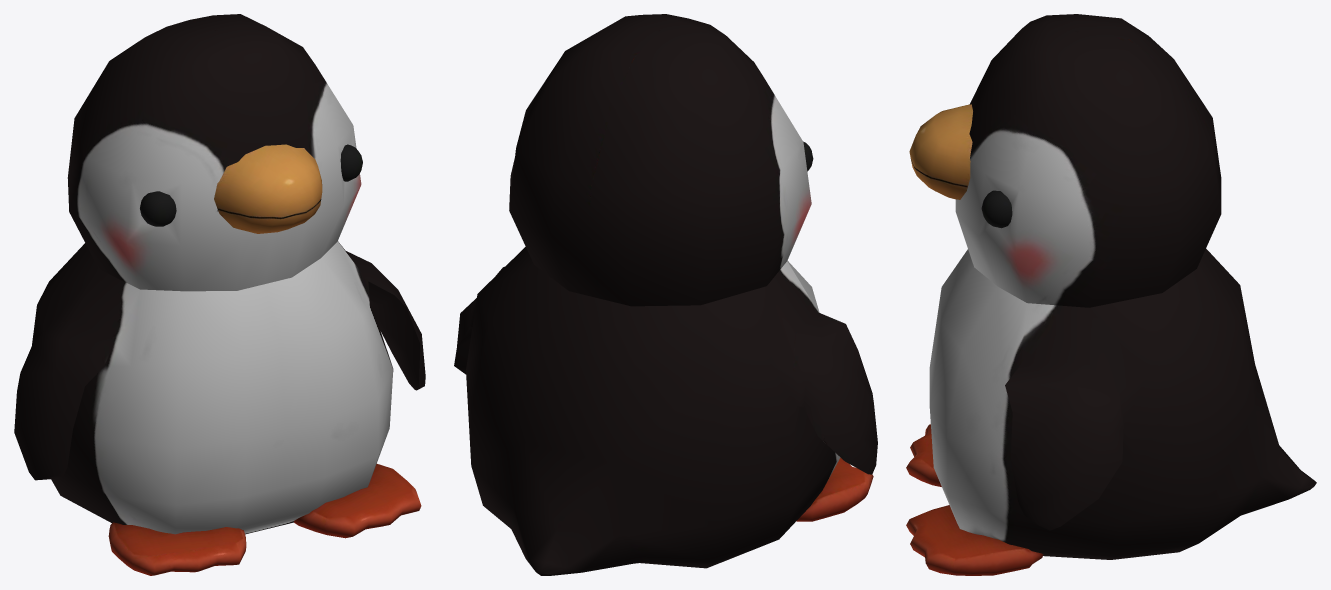
The model's file is plush_ghost.glb.
3 views of the same model, side by side, from view 1: azimuth 30°, elevation 25°; view 2: azimuth 150°, elevation 25°; view 3: azimuth 270°, elevation 25° (orthographic). The views are drawn at different scales.
Visible parts, largest first — view 1: Box001_02 - Default_0; view 2: Box001_02 - Default_0; view 3: Box001_02 - Default_0.
Part boxes in pixels (x1=…): Box001_02 - Default_0: x1=14, y1=14, x2=425, y2=575; Box001_02 - Default_0: x1=454, y1=14, x2=877, y2=575; Box001_02 - Default_0: x1=906, y1=14, x2=1316, y2=575.
Size of the model in its own units: 2.1 by 2.43 by 1.87.
1 material, 1 textured.
